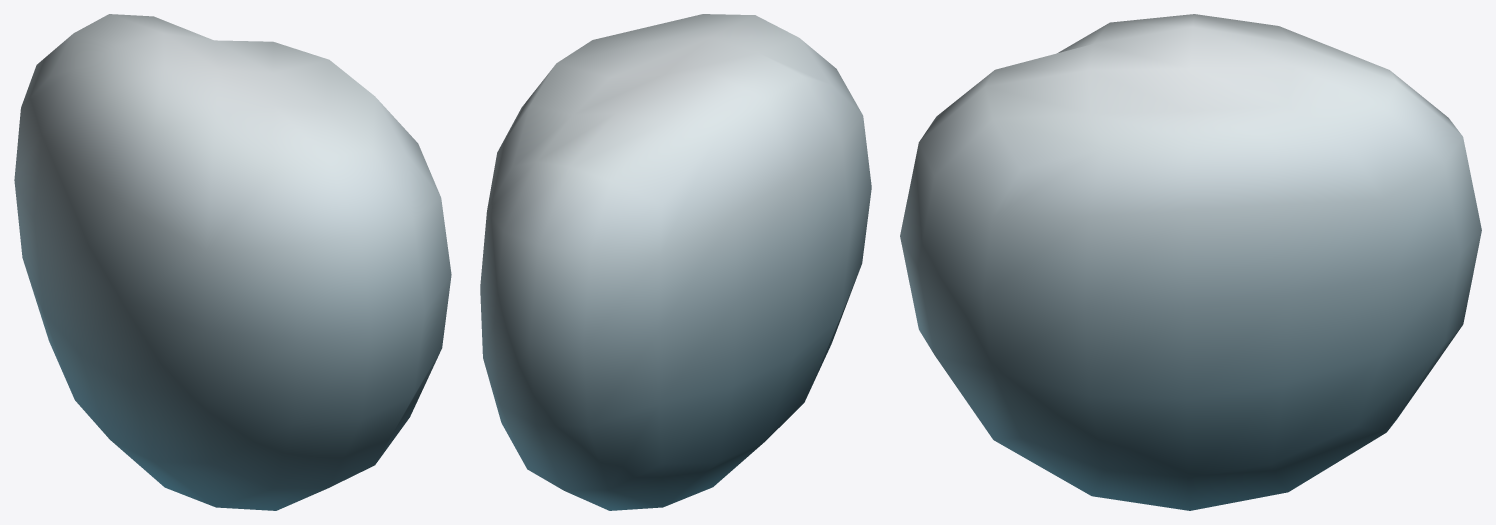
The model's file is Rock_03.fbx.
The picture shows the model from 3 angles, left to right: view 1: azimuth 30°, elevation 25°; view 2: azimuth 150°, elevation 25°; view 3: azimuth 270°, elevation 25°; orthographic projection. The views are drawn at different scales.
Visible parts, largest first — view 1: RockMesh_03; view 2: RockMesh_03; view 3: RockMesh_03.
Part boxes in pixels (left/top/right/bottom): RockMesh_03: left=14, top=14, right=451, bottom=510; RockMesh_03: left=480, top=14, right=871, bottom=510; RockMesh_03: left=900, top=14, right=1481, bottom=510.
Size of the model in its own units: 8597 by 11857 by 14105.
